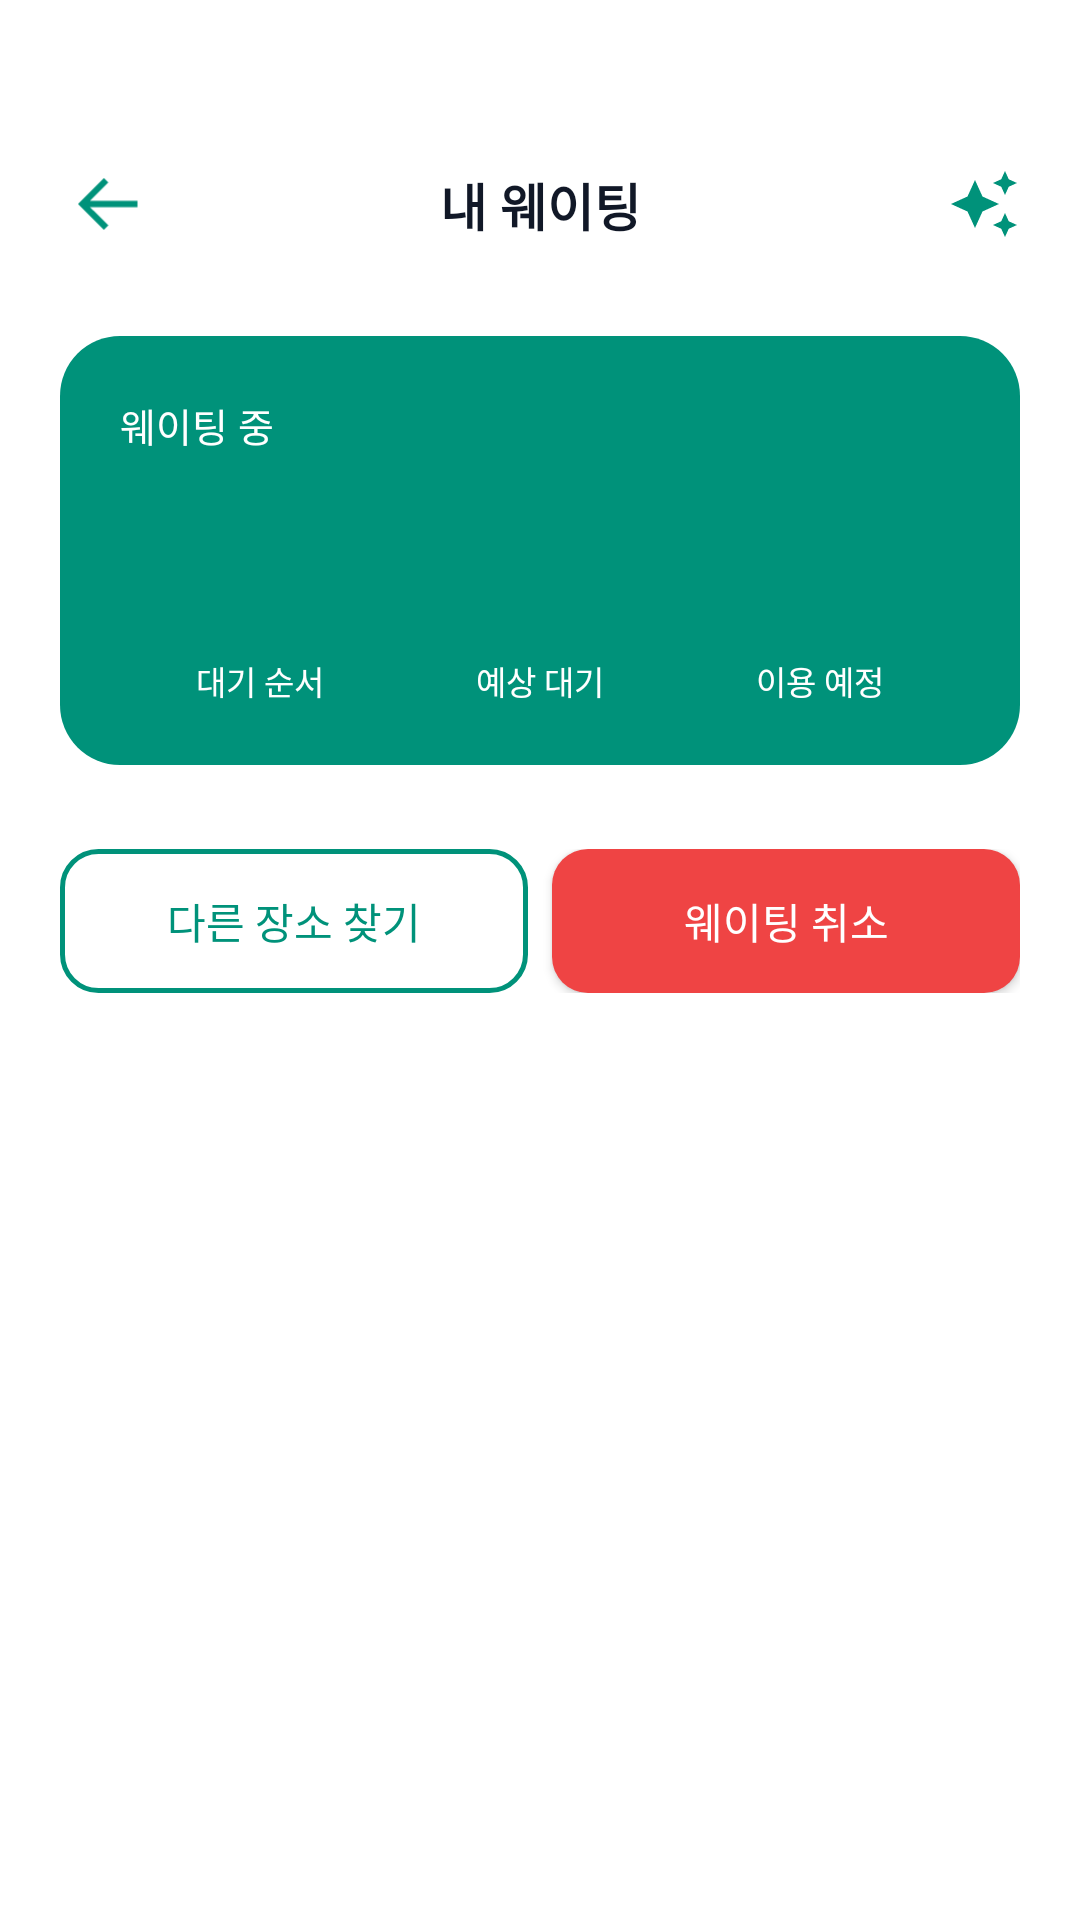

Icons on this 1080 x 1920 Android screen, each with its box as [x1=x1, y1=y1, x2=x2, y2=y2]:
자리타임봇: [x1=951, y1=171, x2=1017, y2=237]
